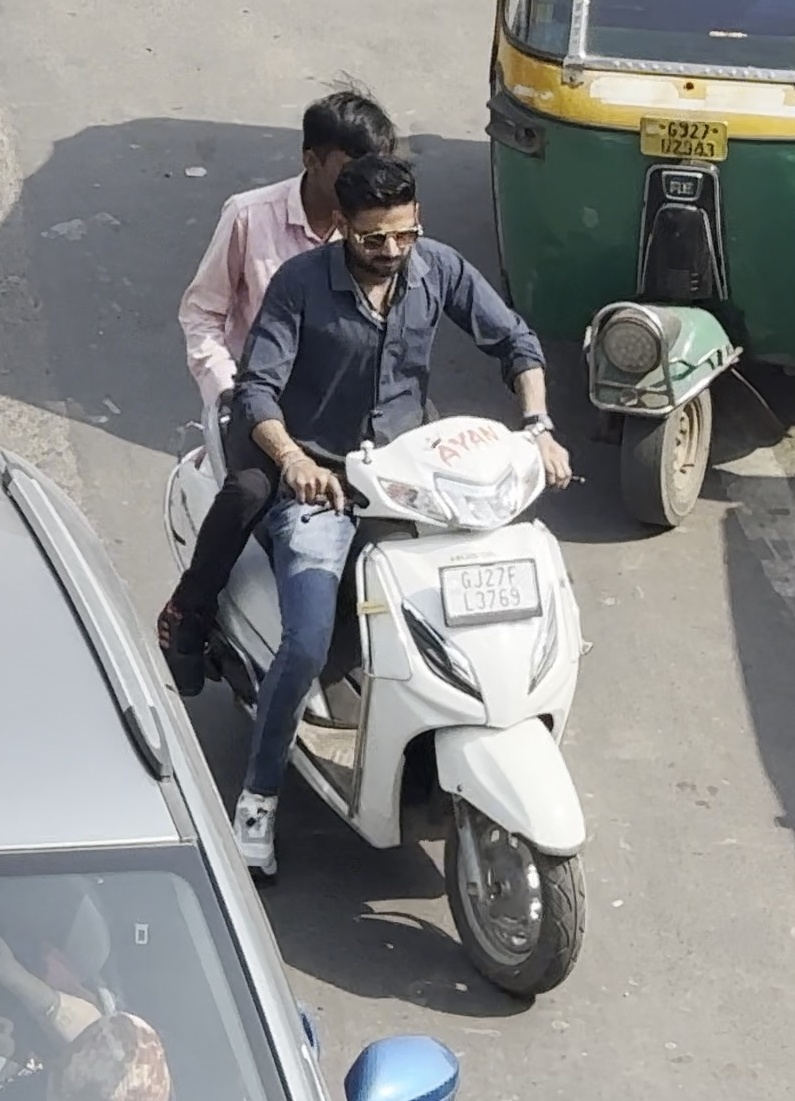BikeWithRider: (135, 73, 600, 1002)
NoHelmet: (294, 84, 399, 213), (332, 147, 434, 277)
